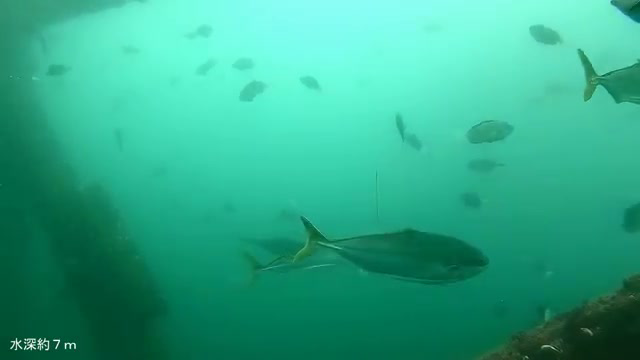hamati: (283, 217, 504, 288)
smallfish: (520, 21, 590, 64), (454, 107, 514, 145)
